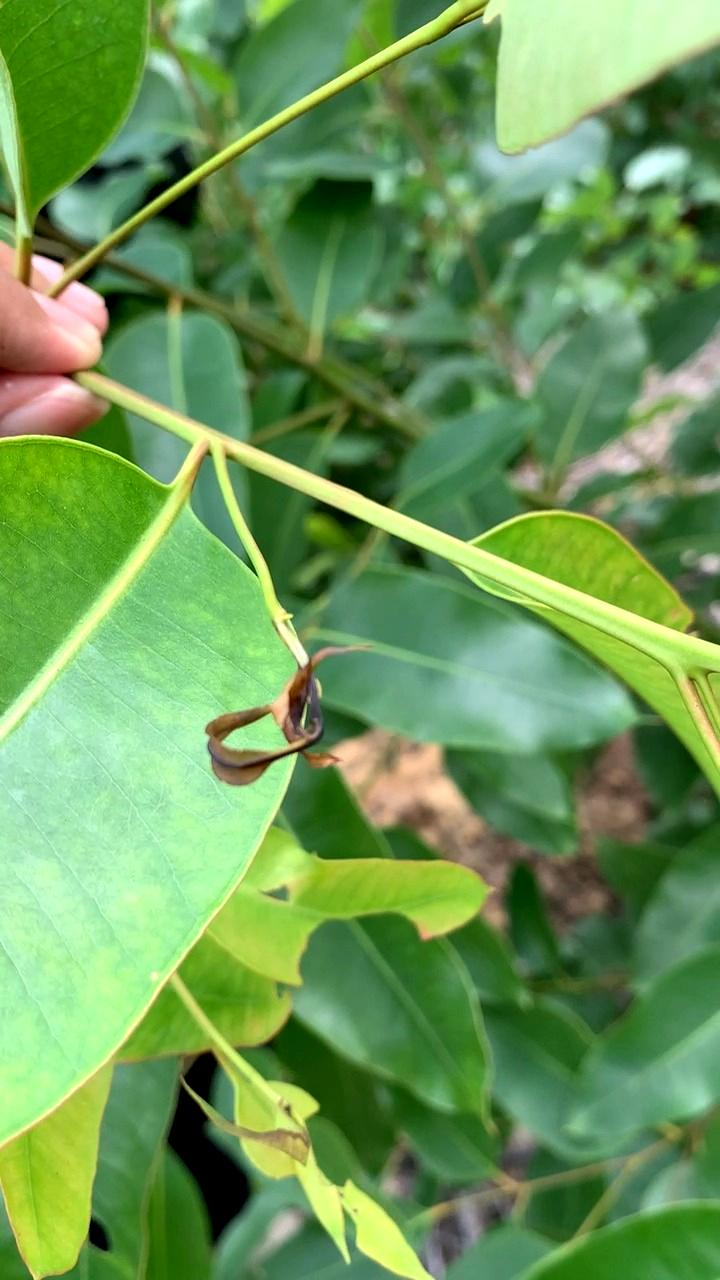Helopeltis-Withered Sprout: (203, 635, 365, 769)
